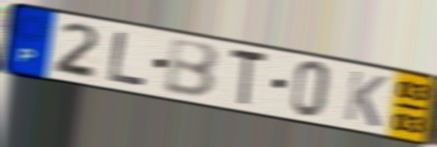0: (291, 60, 336, 122)
2: (52, 21, 101, 81)
B: (162, 38, 222, 101)
K: (341, 68, 389, 130)
L: (106, 29, 150, 89)
T: (229, 45, 271, 109)
